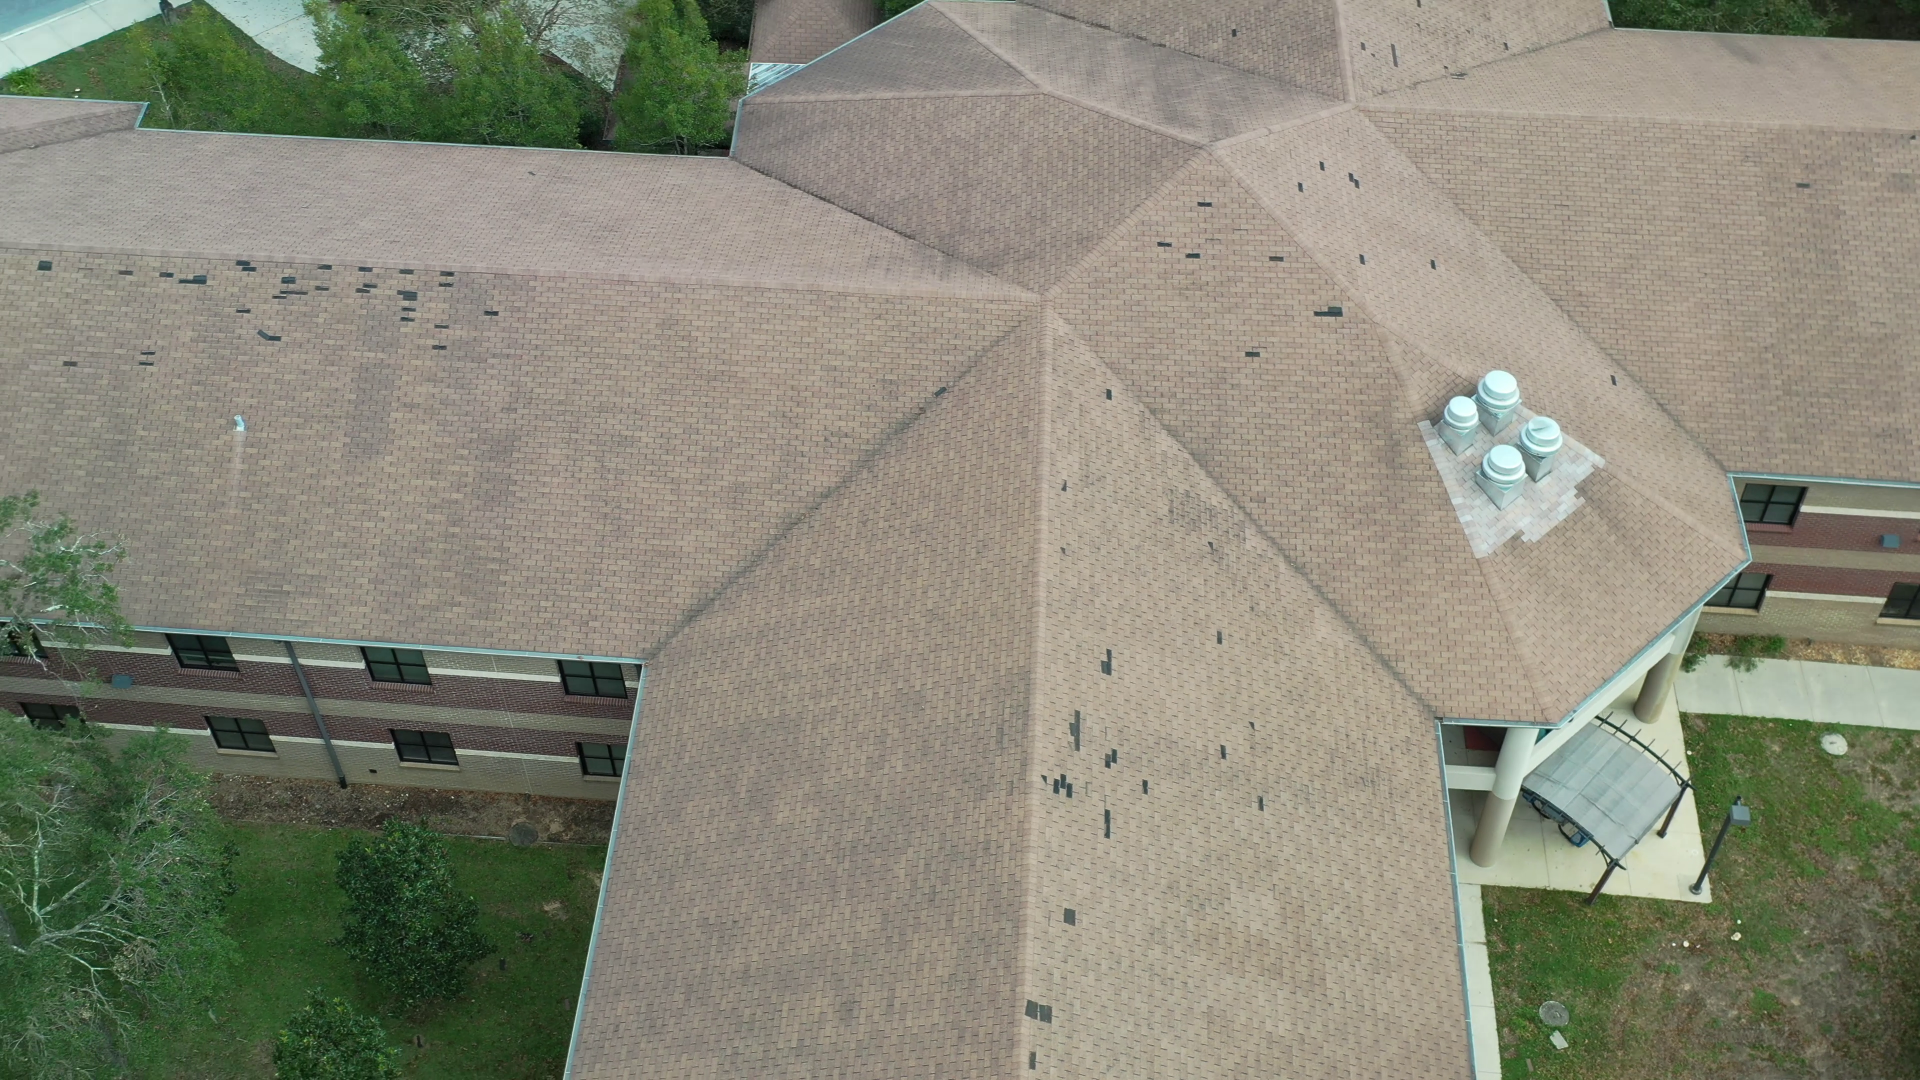Light: (119, 258, 500, 349), (1040, 709, 1149, 840), (1220, 723, 1265, 812), (1025, 1000, 1054, 1071), (1319, 160, 1360, 190), (1360, 40, 1400, 69), (1156, 243, 1203, 260), (1313, 306, 1344, 318), (1101, 647, 1113, 676), (138, 349, 157, 367), (1063, 909, 1077, 927), (36, 260, 53, 272), (1244, 349, 1261, 359), (61, 360, 79, 368), (1215, 629, 1222, 645), (1269, 255, 1284, 262), (1197, 200, 1213, 208), (1104, 386, 1113, 400), (1429, 258, 1437, 272), (1358, 252, 1365, 266), (1298, 179, 1304, 193)
